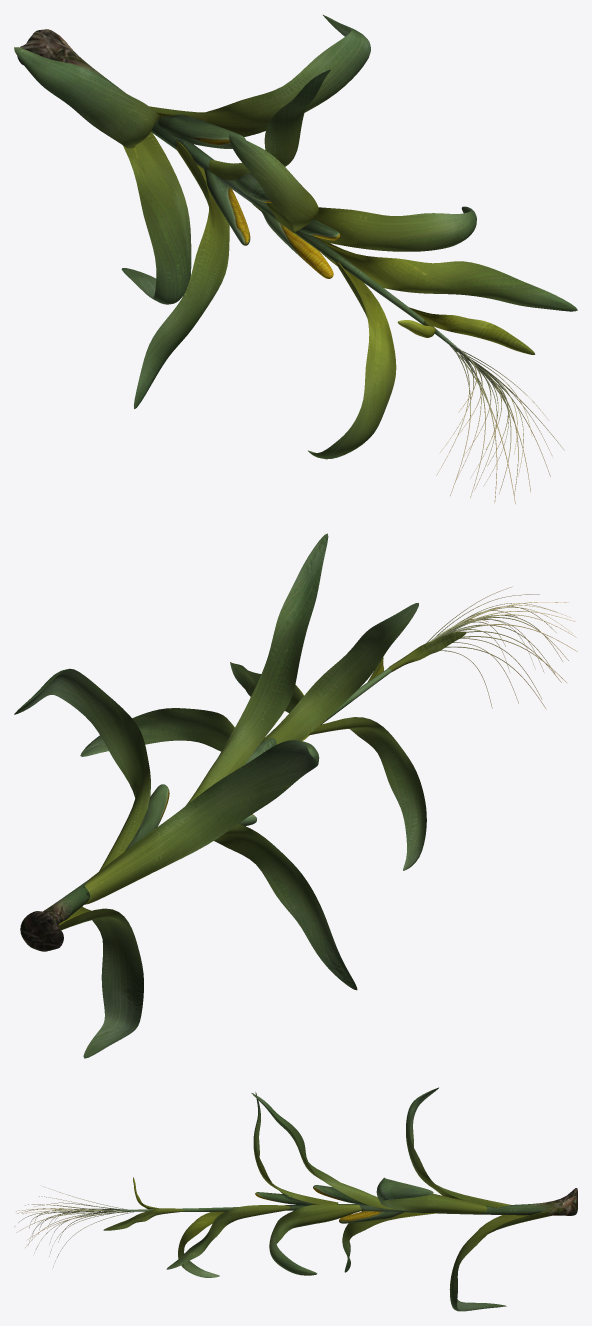
The model's file is 10439_Corn_Field_v1_max2010_it2.obj.
3 views of the same model, one above another, from view 1: azimuth 30°, elevation 25°; view 2: azimuth 150°, elevation 25°; view 3: azimuth 270°, elevation 25° (orthographic). The views are drawn at different scales.
Visible parts, largest first — view 1: 10439_Corn_Field_v1_SG; view 2: 10439_Corn_Field_v1_SG; view 3: 10439_Corn_Field_v1_SG.
Part boxes in pixels (x1=…): 10439_Corn_Field_v1_SG: x1=14, y1=15, x2=577, y2=504; 10439_Corn_Field_v1_SG: x1=14, y1=533, x2=577, y2=1058; 10439_Corn_Field_v1_SG: x1=14, y1=1087, x2=577, y2=1311.
Size of the model in its own units: 74.11 by 77.72 by 188.
